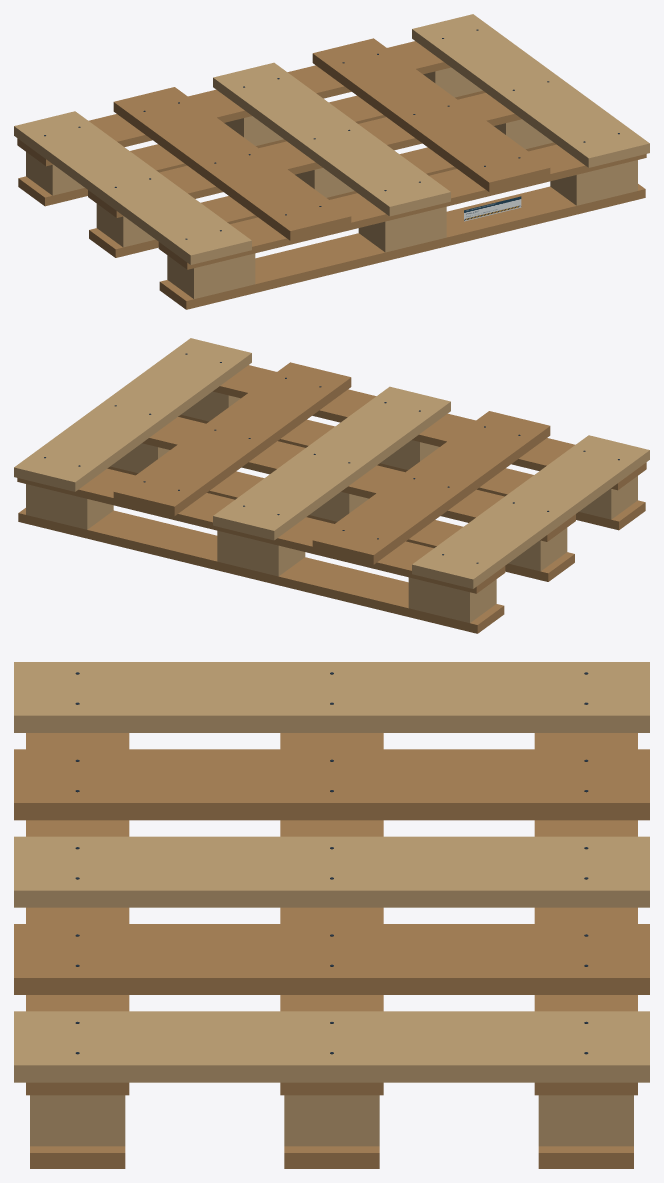
The model's file is pallet.glb.
The picture shows the model from 3 angles, top to bottom: view 1: azimuth 30°, elevation 25°; view 2: azimuth 150°, elevation 25°; view 3: azimuth 270°, elevation 25°; orthographic projection. The views are drawn at different scales.
Visible parts, largest first — view 1: DeckBoard1, DeckBoard3, DeckBoard2, DeckBoard0, DeckBoard4, Runner0.32, CrossBoard0.32, CrossBoard0, CrossBoard-0.32, Runner-0.32, Runner0, SpacerBlock6 (+9 smaller); view 2: DeckBoard1, DeckBoard3, DeckBoard2, DeckBoard0, DeckBoard4, Runner-0.32, CrossBoard-0.32, CrossBoard0, CrossBoard0.32, Runner0, Runner0.32, SpacerBlock0 (+8 smaller); view 3: DeckBoard2, DeckBoard1, DeckBoard4, DeckBoard0, DeckBoard3, CrossBoard0, CrossBoard-0.32, CrossBoard0.32, SpacerBlock5, SpacerBlock2, SpacerBlock8, Runner-0.32 (+2 smaller).
Part boxes in pixels (x1,y1,x2,y2): DeckBoard1: (113,87,351,240); DeckBoard3: (312,38,550,192); DeckBoard2: (213,62,450,216); DeckBoard0: (14,111,251,264); DeckBoard4: (412,14,649,167); Runner0.32: (159,184,645,309); CrossBoard0.32: (158,144,646,269); CrossBoard0: (88,93,521,217); CrossBoard-0.32: (17,41,450,166); Runner-0.32: (18,91,485,206); Runner0: (89,142,556,257); SpacerBlock6: (167,253,255,298); DeckBoard1: (312,411,550,564); DeckBoard3: (113,362,351,516); DeckBoard2: (213,386,450,540); DeckBoard0: (412,435,649,588); DeckBoard4: (14,338,251,491); Runner-0.32: (18,508,504,633); CrossBoard-0.32: (17,468,505,593); CrossBoard0: (142,417,575,541); CrossBoard0.32: (213,365,646,490); Runner0: (107,466,574,581); Runner0.32: (178,415,645,530); SpacerBlock0: (408,577,496,622); DeckBoard2: (14,836,649,907); DeckBoard1: (14,749,649,820); DeckBoard4: (14,1011,649,1082); DeckBoard0: (14,662,649,732); DeckBoard3: (14,924,649,994); CrossBoard0: (280,733,383,1095); CrossBoard-0.32: (534,733,637,1095); CrossBoard0.32: (26,733,129,1095); SpacerBlock5: (284,1095,379,1146); SpacerBlock2: (538,1095,633,1146); SpacerBlock8: (30,1095,125,1146); Runner-0.32: (538,1146,633,1168).
Size of the model in its own units: 1.2 by 0.1448 by 0.8.
Materials: 4 (1 with a texture image).
